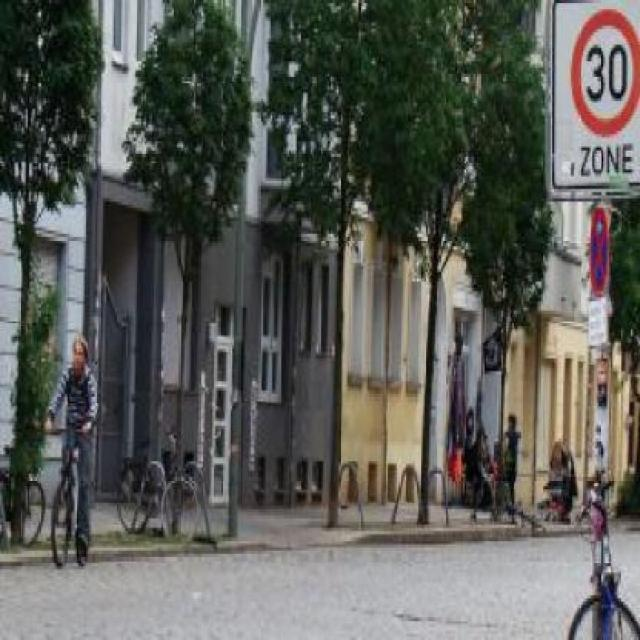forb_speed_over_30: (566, 6, 639, 142)
